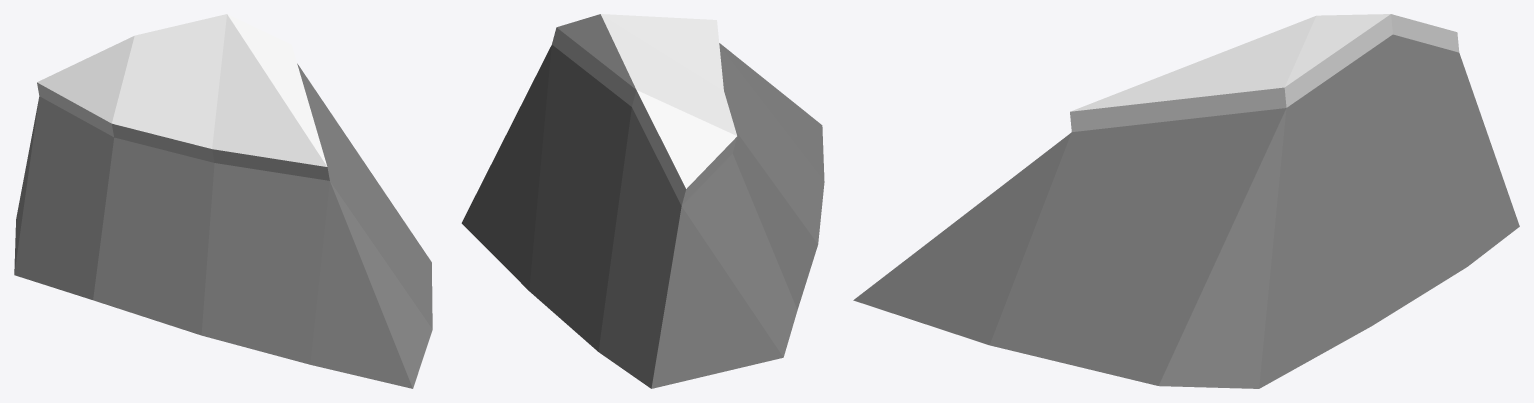
Rendered from SnowRock_04.glb.
3 renders of one model, left to right at view 1: azimuth 30°, elevation 25°; view 2: azimuth 150°, elevation 25°; view 3: azimuth 270°, elevation 25°, orthographic. The views are drawn at different scales.
Parts seen in each view (by area): view 1: SnowRock_04; view 2: SnowRock_04; view 3: SnowRock_04.
Boxes of the visible parts, x1,y1,x2,y2 form: SnowRock_04: [14, 14, 432, 388]; SnowRock_04: [461, 14, 824, 388]; SnowRock_04: [853, 14, 1519, 388].
Size of what is drawn, in the model's own units: 0.7487 by 0.508 by 1.07.
Materials: 1 (1 with a texture image).
